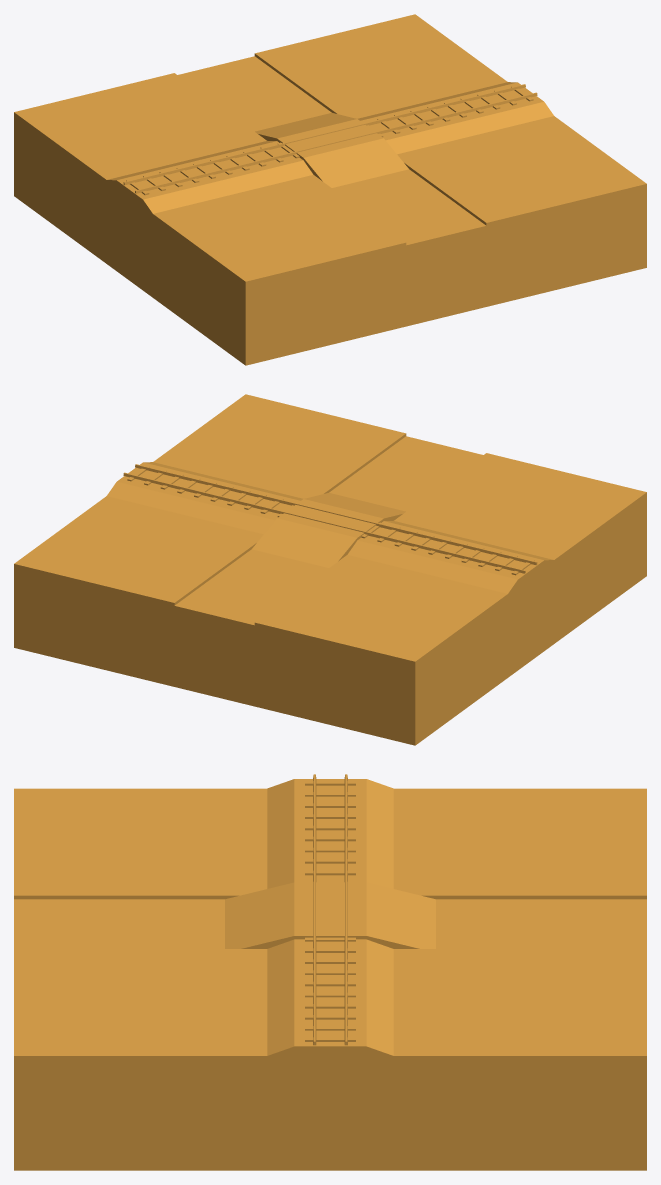
The model's file is tile-rail-road-crossing.glb.
The picture shows the model from 3 angles, top to bottom: view 1: azimuth 30°, elevation 25°; view 2: azimuth 150°, elevation 25°; view 3: azimuth 270°, elevation 25°; orthographic projection. The views are drawn at different scales.
Parts seen in each view (by area): view 1: tile-rail-road-crossing; view 2: tile-rail-road-crossing; view 3: tile-rail-road-crossing.
Part boxes in pixels (x1,y1,x2,y2): tile-rail-road-crossing: (14, 14, 646, 365); tile-rail-road-crossing: (14, 394, 646, 745); tile-rail-road-crossing: (14, 774, 646, 1170).
Bounding box in the file's own units: 30 × 6.75 × 30.
